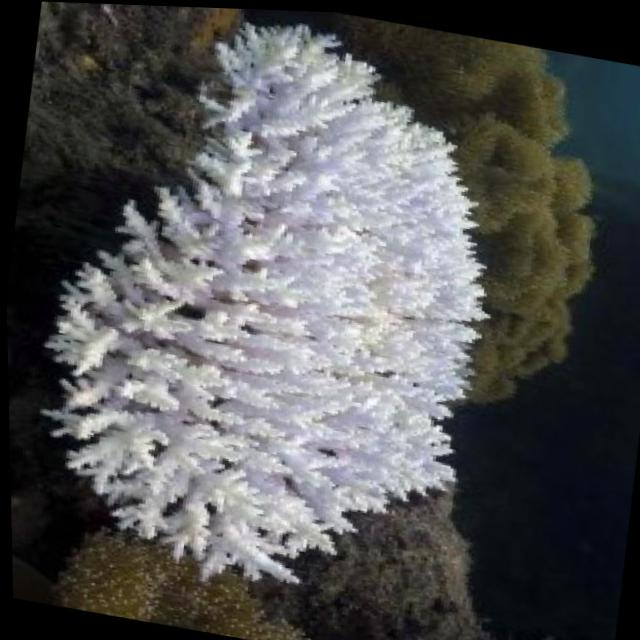Bleached Coral: (7, 0, 532, 628)
